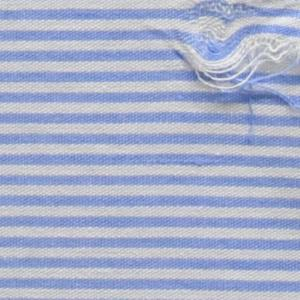Damage: (168, 1, 300, 149)
